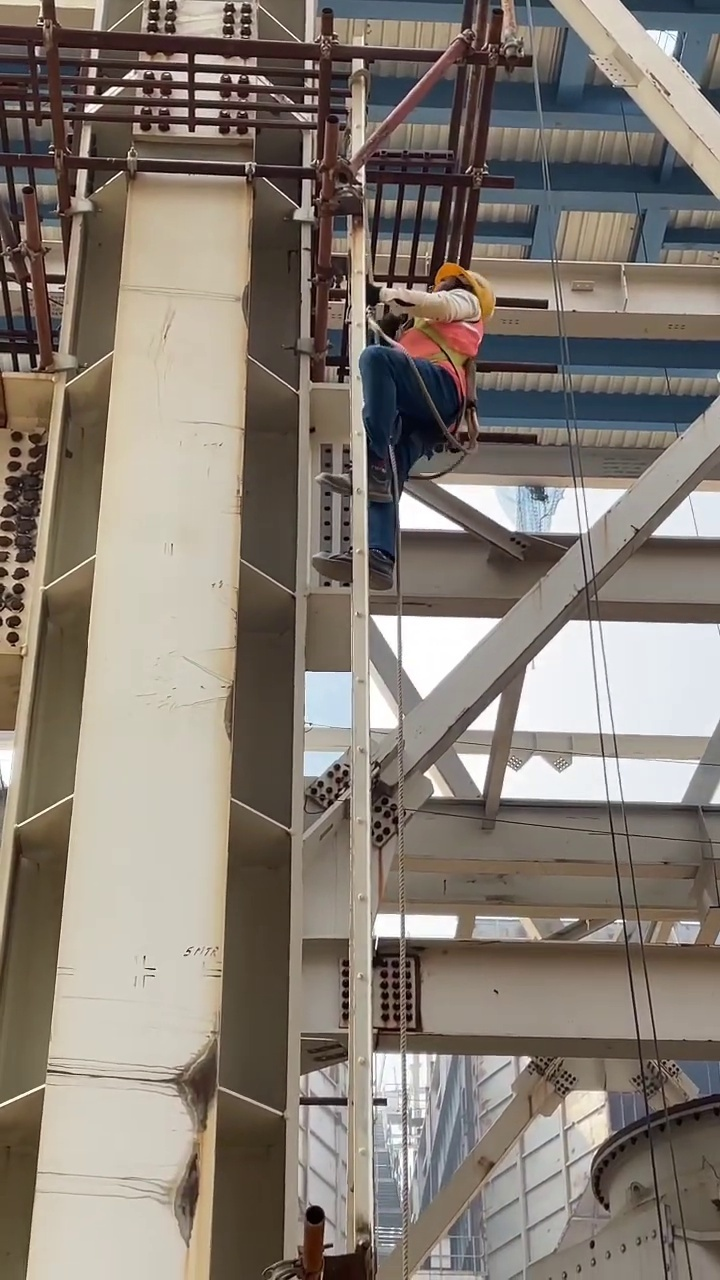Helmet: (431, 264, 496, 314)
Person: (309, 262, 496, 594)
Safety_Harness: (399, 322, 481, 453)
Safety_shoes: (309, 547, 394, 593), (323, 452, 395, 501)
